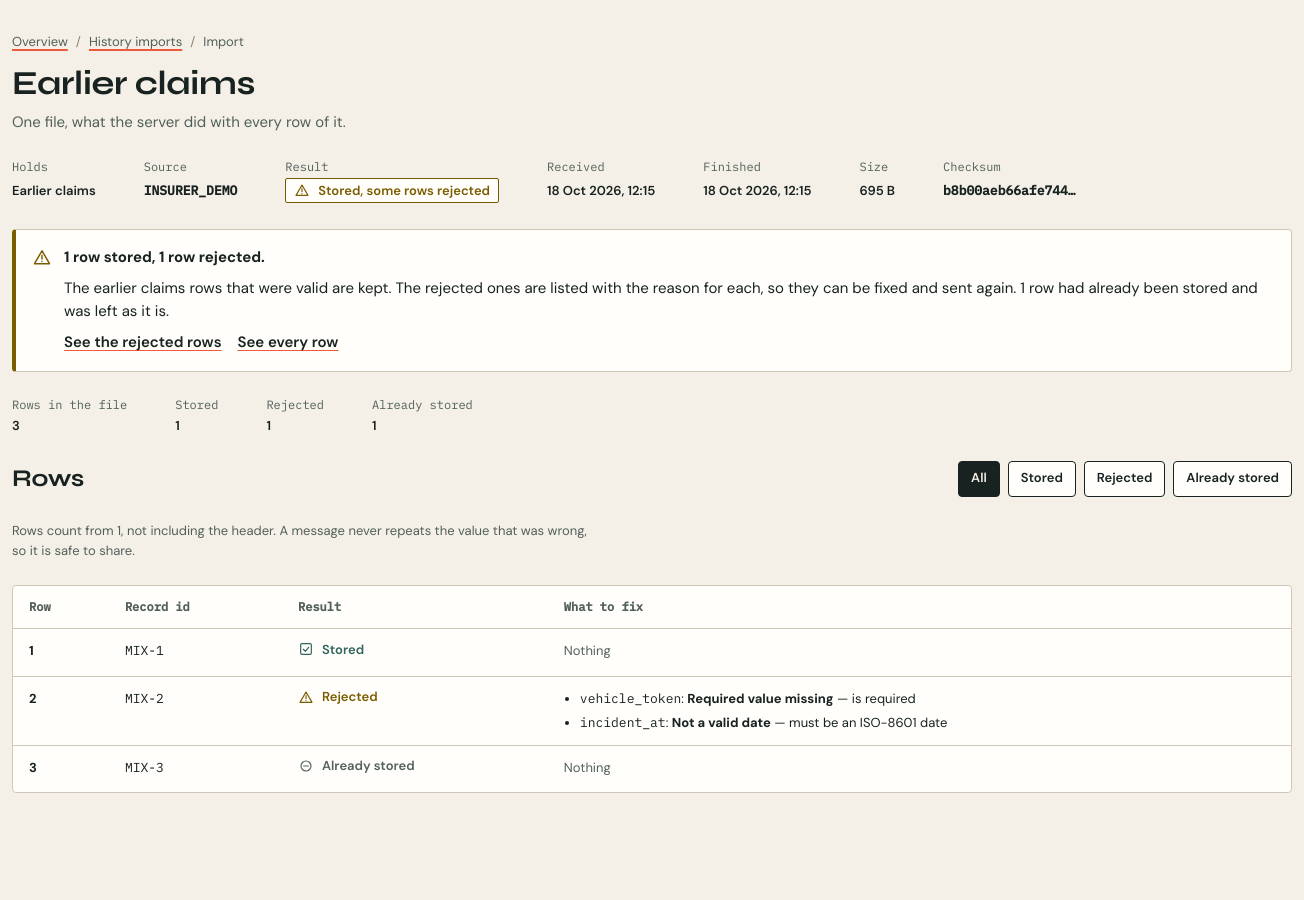
it: an import › says when no row has the chosen result
Expected: the table named "Rows of this import" is shown, x1=13 y1=586 x2=1291 y2=792
Click the button "Already stored".
click(1233, 479)  # box x1=1173 y1=461 x2=1292 y2=497
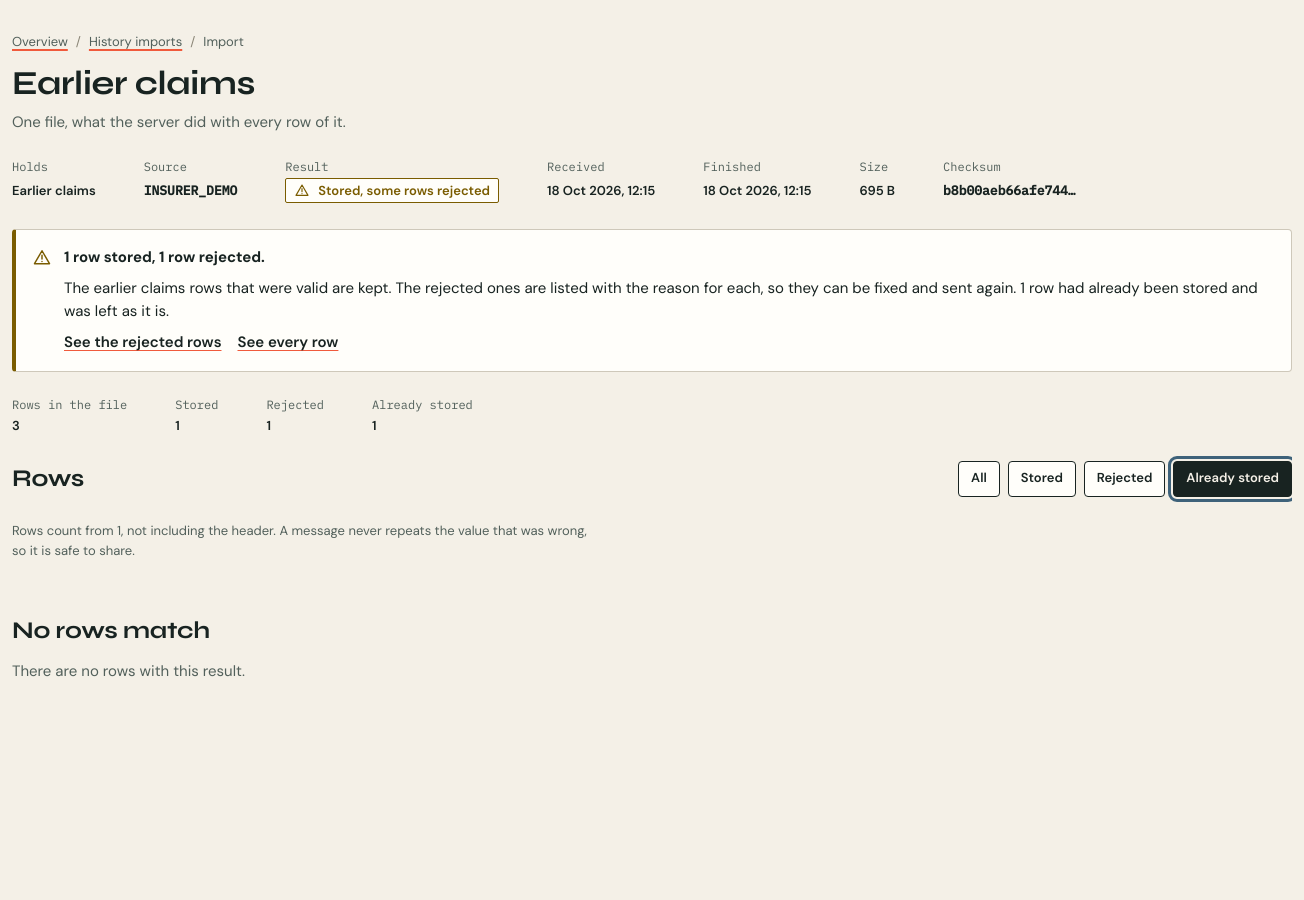
Expected: the heading "No rows match" is shown, x1=12 y1=617 x2=210 y2=644
